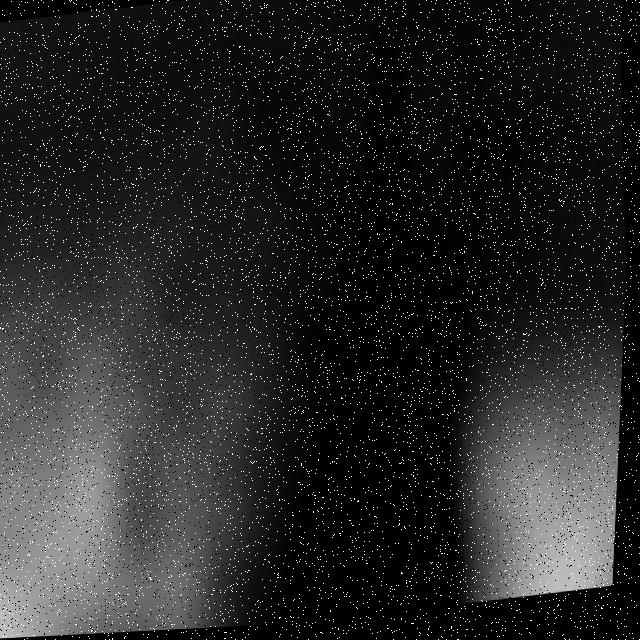person: (1, 120, 244, 640), (437, 290, 630, 611)
